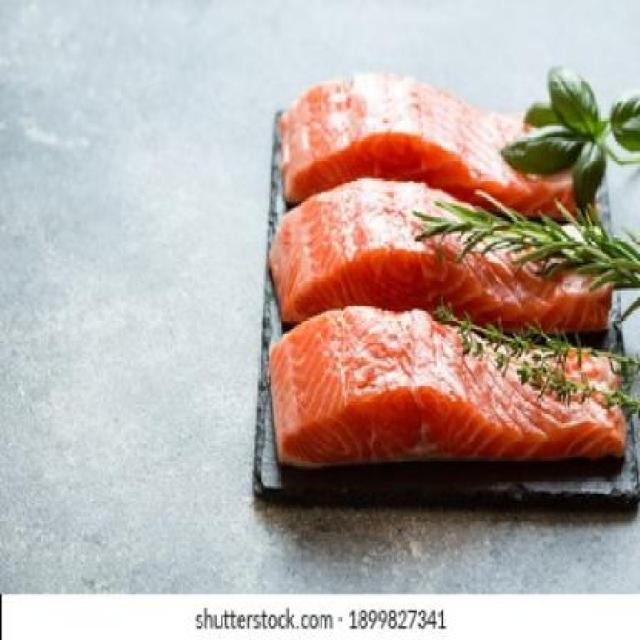salmon: (257, 292, 635, 502), (274, 187, 611, 356), (274, 74, 589, 248)
